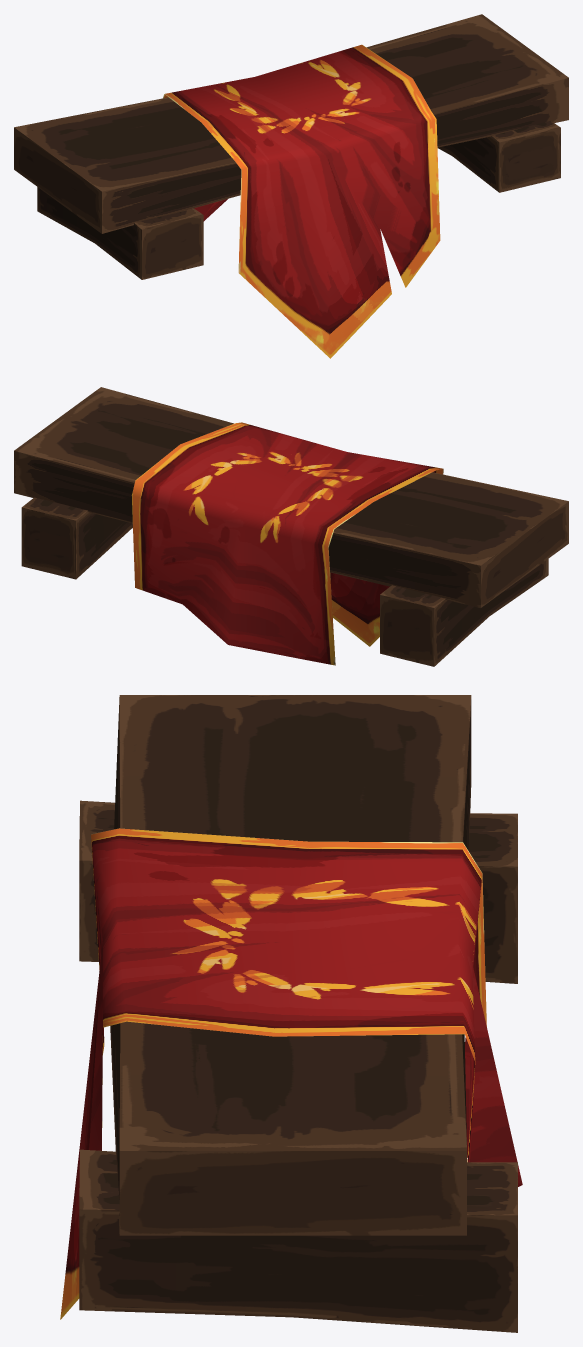
Rendered from SM_PROP_wallshelf_dungeon_02.fbx.
The picture shows the model from 3 angles, top to bottom: view 1: azimuth 30°, elevation 25°; view 2: azimuth 150°, elevation 25°; view 3: azimuth 270°, elevation 25°; orthographic projection. The views are drawn at different scales.
Parts seen in each view (by area): view 1: SM_PROP_wallshelf_dungeon_02; view 2: SM_PROP_wallshelf_dungeon_02; view 3: SM_PROP_wallshelf_dungeon_02.
Boxes of the visible parts, x1=… form: SM_PROP_wallshelf_dungeon_02: x1=14, y1=14, x2=568, y2=358; SM_PROP_wallshelf_dungeon_02: x1=14, y1=387, x2=568, y2=666; SM_PROP_wallshelf_dungeon_02: x1=60, y1=695, x2=522, y2=1332.
Size of the model in its own units: 101 by 42.87 by 43.12.
